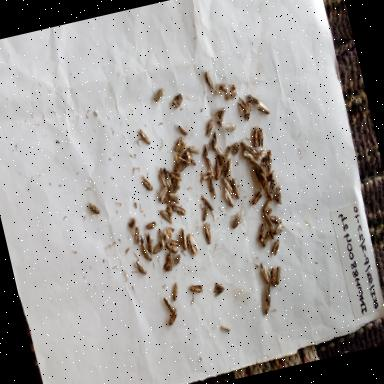pbw: (85, 194, 105, 222), (219, 170, 237, 198), (227, 172, 244, 200), (134, 122, 152, 148), (265, 264, 281, 292), (254, 120, 270, 148), (202, 114, 219, 140), (226, 210, 244, 234), (164, 304, 182, 328), (168, 90, 187, 112), (244, 87, 262, 110), (196, 201, 213, 225), (138, 241, 154, 266), (172, 154, 192, 174), (240, 135, 258, 157), (158, 206, 176, 228), (248, 122, 262, 150), (138, 170, 154, 194), (200, 222, 214, 249), (268, 236, 285, 258), (255, 144, 272, 166), (200, 190, 216, 213), (186, 230, 200, 256), (262, 210, 276, 236), (202, 64, 215, 92), (272, 264, 287, 288), (150, 83, 167, 104), (125, 214, 141, 236), (236, 96, 252, 118), (213, 100, 229, 122), (207, 175, 220, 201), (182, 146, 196, 170), (222, 154, 236, 178), (169, 280, 184, 302), (266, 178, 281, 200), (172, 202, 188, 222), (224, 86, 240, 106), (230, 139, 246, 159), (249, 189, 265, 209), (240, 144, 256, 164), (188, 140, 204, 160), (254, 224, 270, 244), (134, 257, 149, 278), (178, 226, 190, 252), (208, 128, 222, 150), (162, 196, 176, 218), (212, 158, 226, 180), (175, 141, 192, 159), (174, 119, 190, 138), (223, 117, 239, 136), (257, 98, 272, 118), (156, 185, 171, 205), (131, 223, 145, 244), (212, 278, 228, 296), (168, 168, 184, 186), (255, 166, 267, 190), (162, 250, 175, 272), (162, 295, 176, 315), (242, 100, 256, 120), (252, 156, 266, 176), (260, 197, 276, 214), (201, 165, 217, 182), (166, 240, 181, 258), (270, 212, 284, 231), (223, 188, 235, 210), (158, 166, 170, 188), (163, 220, 175, 242), (260, 262, 272, 284), (204, 153, 216, 175), (168, 234, 182, 252), (168, 189, 182, 207), (144, 231, 156, 252), (151, 240, 166, 256), (214, 79, 228, 96), (212, 142, 225, 160), (220, 320, 234, 336), (144, 218, 160, 232), (172, 135, 186, 151), (265, 150, 277, 168), (262, 229, 274, 247), (222, 138, 234, 156), (156, 228, 166, 249), (186, 236, 196, 257), (273, 223, 287, 237), (262, 166, 276, 180), (227, 80, 239, 95), (171, 181, 183, 194), (200, 142, 211, 156), (275, 190, 284, 206), (172, 252, 182, 266)
